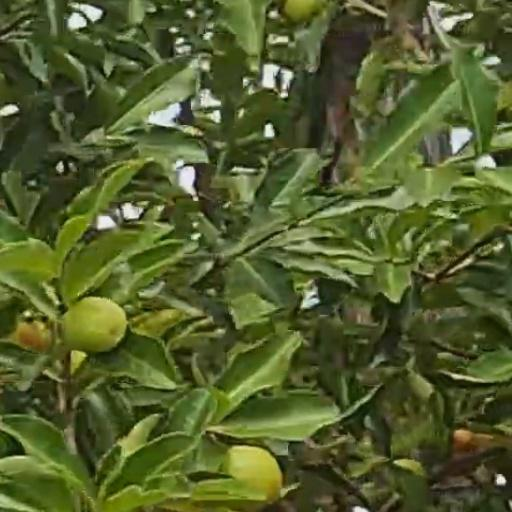acerola: (228, 446, 282, 509), (63, 300, 125, 353)
